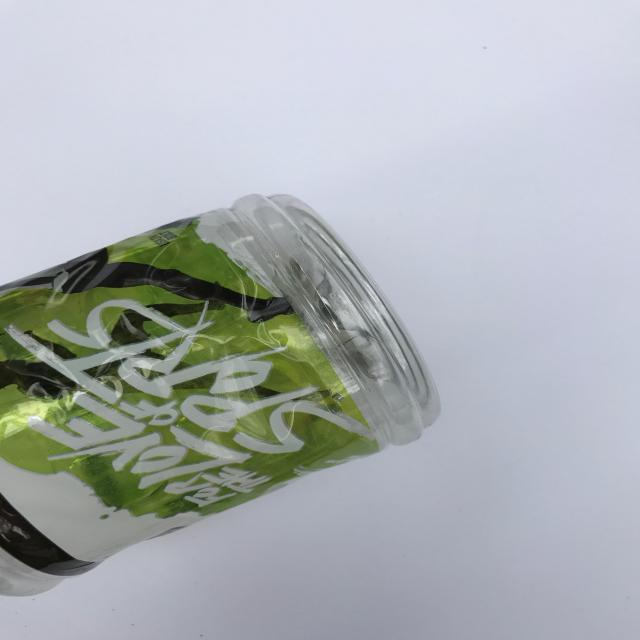plastic: (0, 192, 442, 597)
